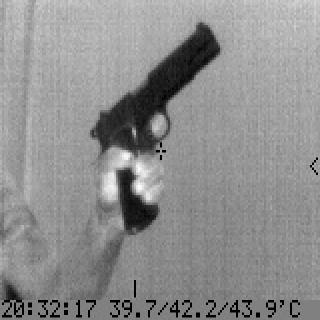Gun: (88, 20, 224, 238)
